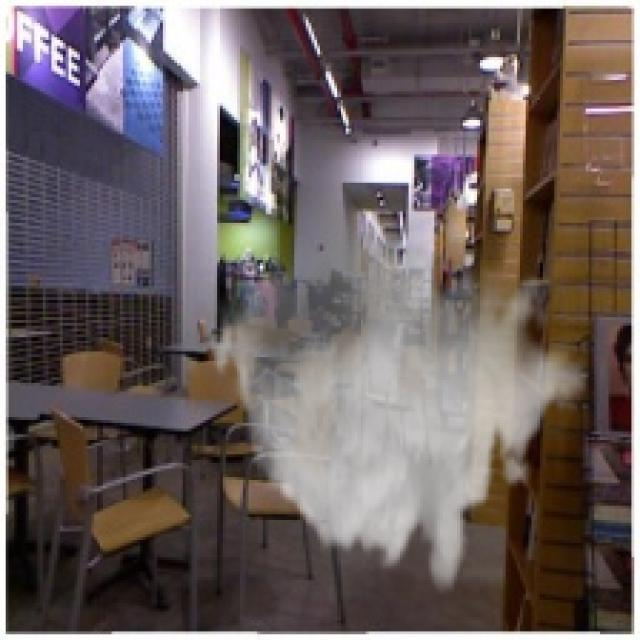Smoke: (206, 200, 588, 594)
